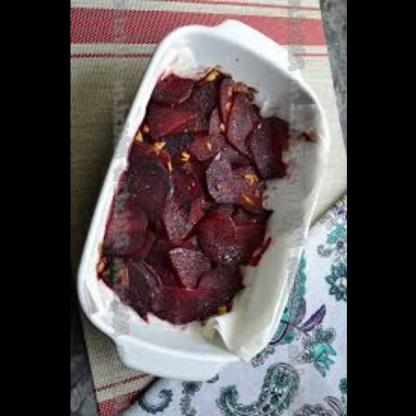beet: (102, 92, 304, 321)
